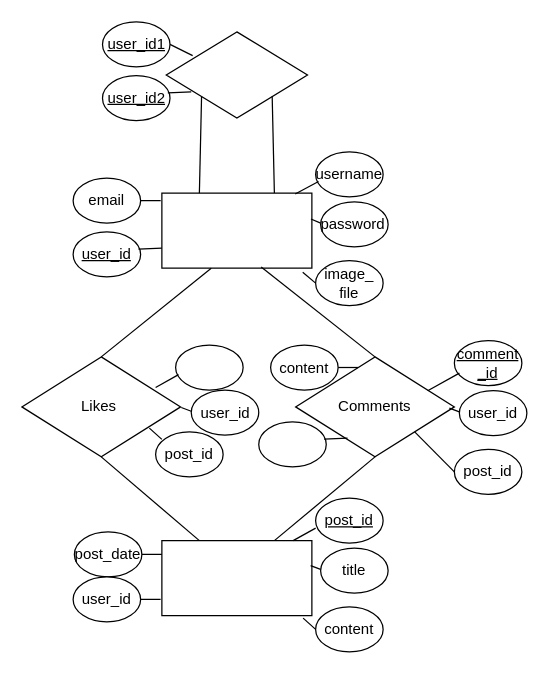
This 549x674 diagram has some shape labels left out. The centre of each missing label's shape, as x and y in pixels:
comment _date: the point at 292,444
Follow: the point at 236,74
like_id: the point at 208,367
Posts: the point at 236,577
Users: the point at 236,230
